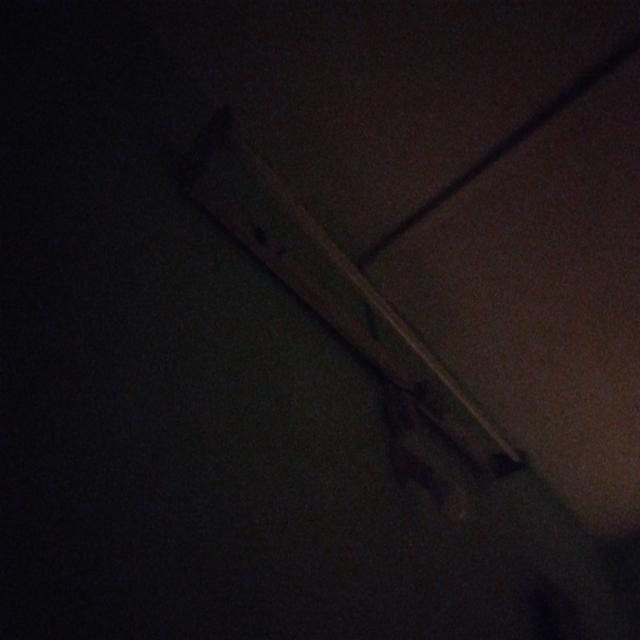tubelight_off: (162, 91, 541, 501)
